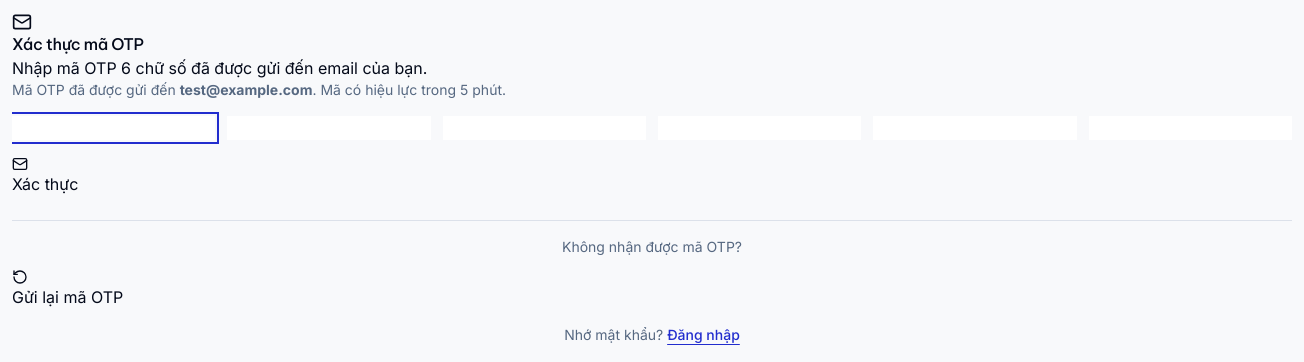
Test case: VerifyResetOtpPage › shows resend button with cooldown
Note: After click, cooldown should start
Click the button "Gửi lại mã OTP" at (68, 289), box x1=12 y1=269 x2=123 y2=309
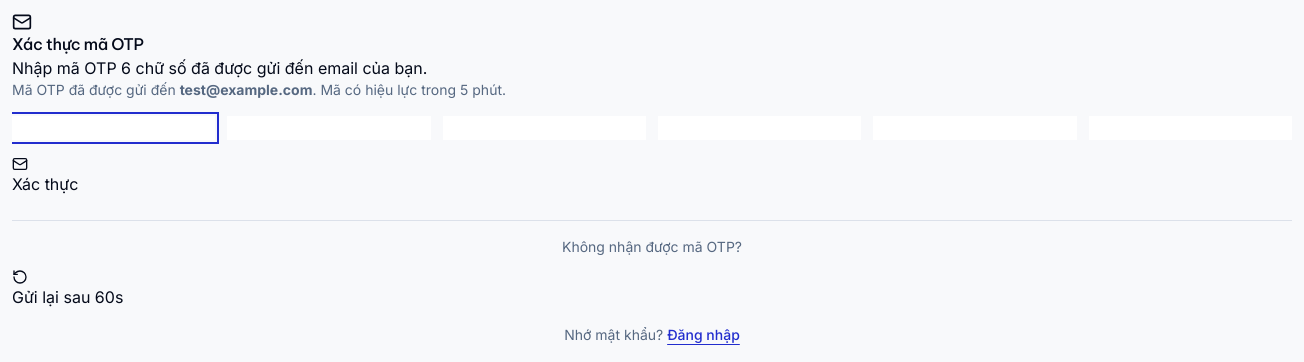
Result: the button "Gửi lại sau 60s" is disabled at x1=12 y1=269 x2=123 y2=309
